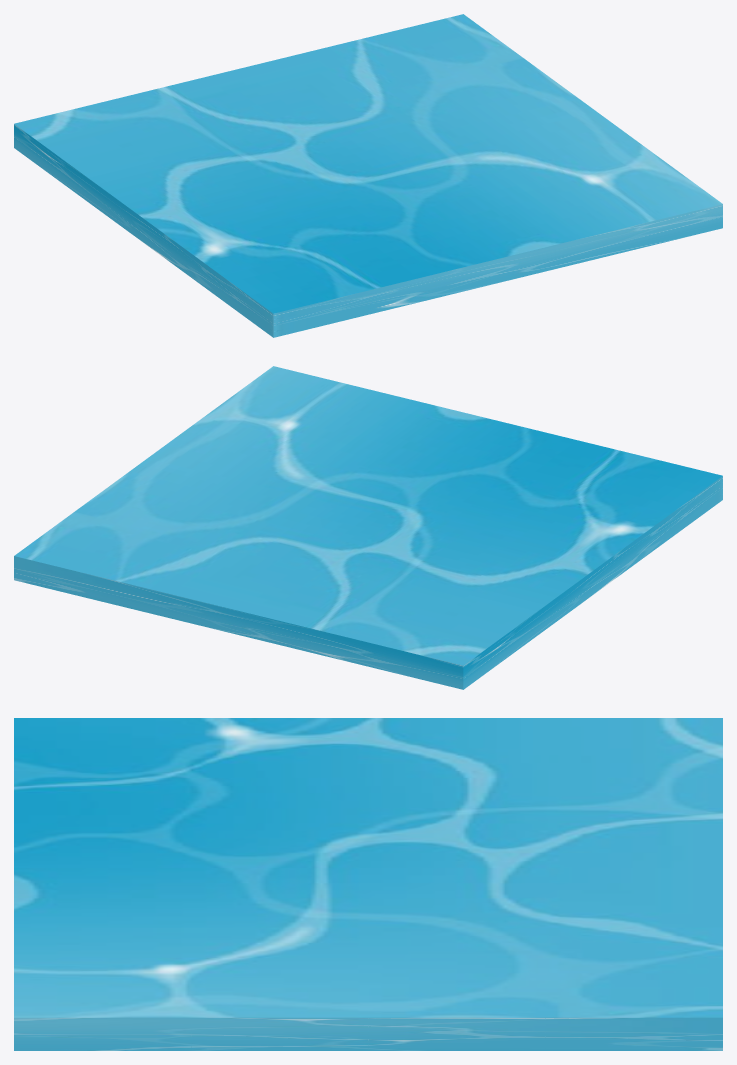
File: ocean1.glb
The picture shows the model from 3 angles, top to bottom: view 1: azimuth 30°, elevation 25°; view 2: azimuth 150°, elevation 25°; view 3: azimuth 270°, elevation 25°; orthographic projection. The views are drawn at different scales.
Parts seen in each view (by area): view 1: Water; view 2: Water; view 3: Water.
Boxes of the visible parts, x1,y1,x2,y2 form: Water: (14,14,722,337); Water: (14,366,722,689); Water: (14,718,722,1050).
Bounding box in the file's own units: 7.29 × 0.3752 × 7.29.
1 material, 1 textured.
